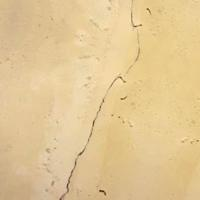crack: (41, 38, 153, 199)
